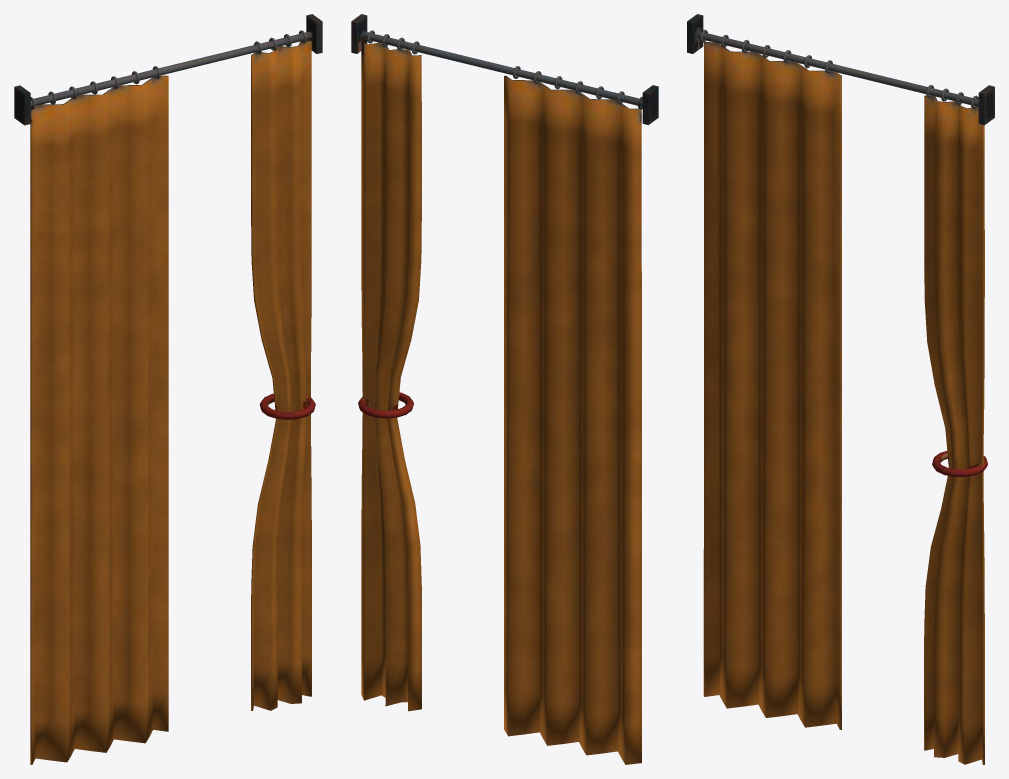
Rendered from doorway_curtain.glb.
3 renders of one model, left to right at view 1: azimuth 30°, elevation 25°; view 2: azimuth 150°, elevation 25°; view 3: azimuth 330°, elevation 25°, orthographic.
Visible parts, largest first — view 1: doorway_curtain; view 2: doorway_curtain; view 3: doorway_curtain.
Part boxes in pixels (x1,y1,x2,y2): doorway_curtain: (14, 14, 322, 764); doorway_curtain: (351, 14, 658, 764); doorway_curtain: (687, 14, 994, 764).
Size of the model in its own units: 1 by 2.17 by 0.1631.
1 material, 1 textured.
